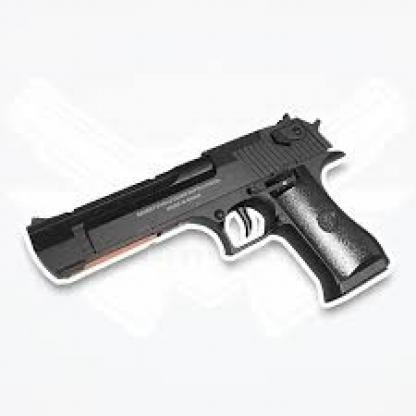Pistol: (13, 89, 403, 404)
